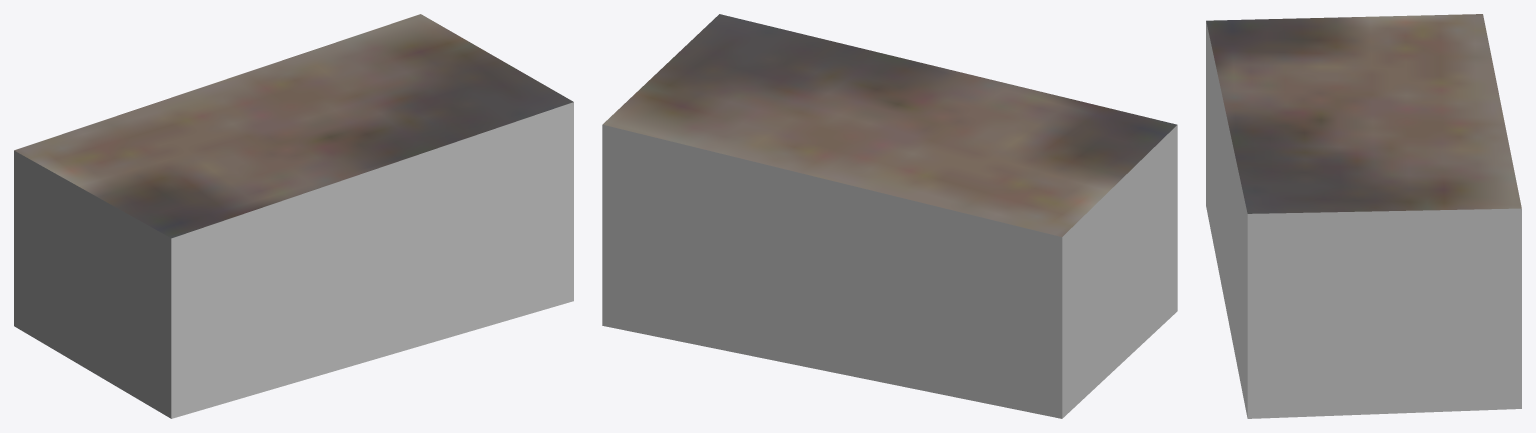
Rendered from DEBW_0010007Txcu.gltf.
The picture shows the model from 3 angles, left to right: view 1: azimuth 30°, elevation 25°; view 2: azimuth 150°, elevation 25°; view 3: azimuth 270°, elevation 25°; orthographic projection. The views are drawn at different scales.
Parts seen in each view (by area): view 1: Z_UP; view 2: Z_UP; view 3: Z_UP.
Boxes of the visible parts, box(x1,y1,x2,y2) form: Z_UP: box(14, 14, 573, 418); Z_UP: box(602, 14, 1177, 418); Z_UP: box(1206, 14, 1521, 418).
Bounding box in the file's own units: 6.01 × 2.57 × 3.58.
Materials: 2 (1 with a texture image).
